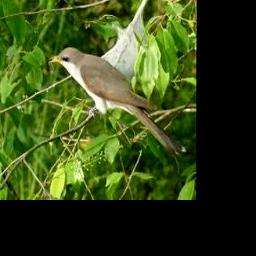Cuckoo: (47, 47, 182, 159)
